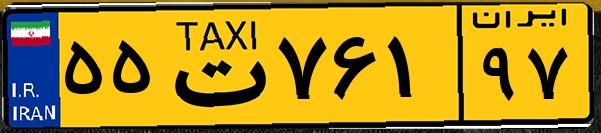1: (385, 28, 445, 110)
5: (57, 26, 110, 100), (110, 28, 158, 98)
6: (330, 28, 385, 110)
7: (270, 28, 330, 110), (525, 38, 570, 115)
9: (475, 38, 525, 113)
ت: (158, 12, 270, 120)
